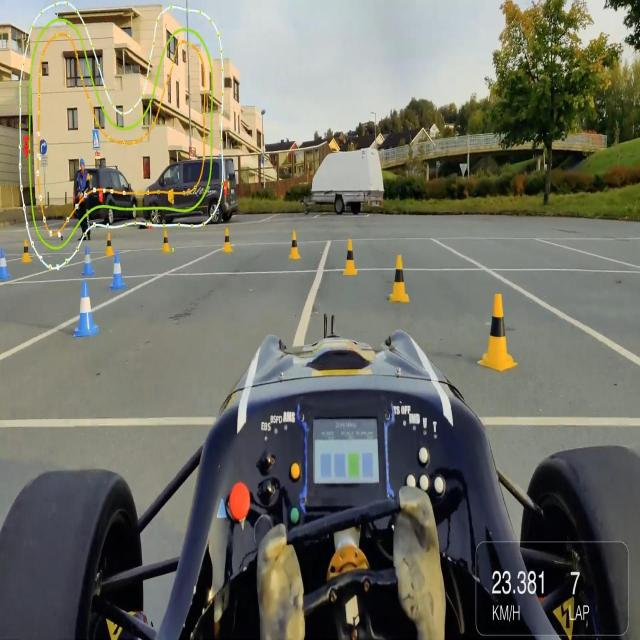blue_cone: (72, 280, 99, 342), (108, 252, 125, 294), (0, 248, 14, 286), (82, 246, 96, 277)
yellow_cone: (478, 291, 517, 369), (390, 255, 412, 308), (342, 239, 358, 281), (289, 231, 301, 262), (223, 227, 234, 255), (161, 231, 172, 257), (22, 238, 32, 265), (106, 234, 114, 258)
